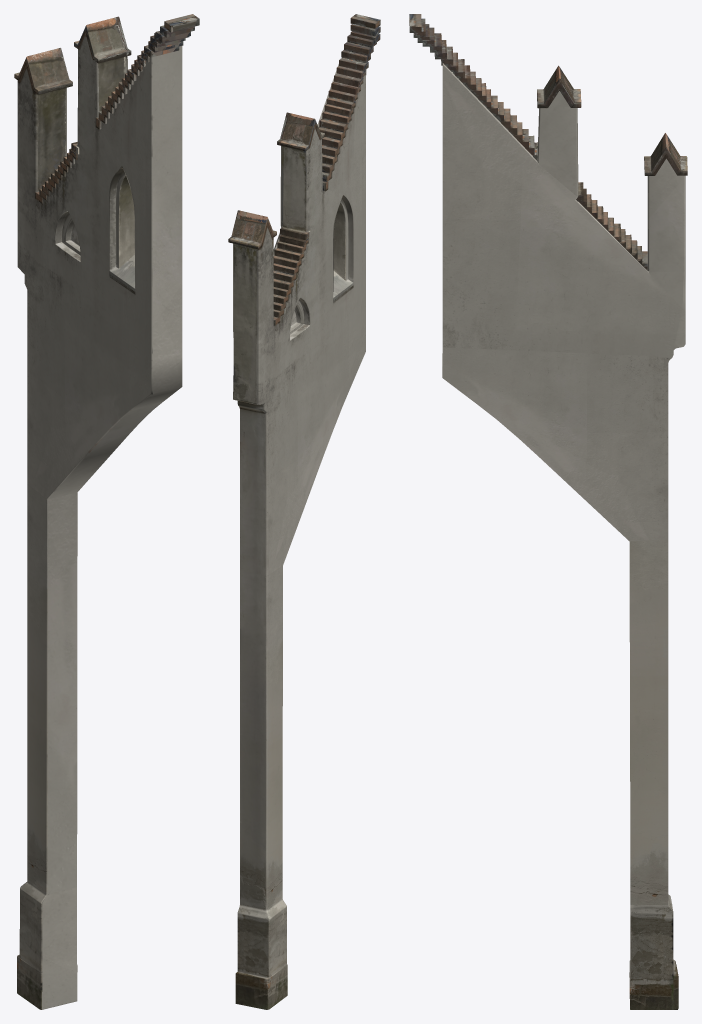
Rendered from sm_Church_01_09.fbx.
3 views of the same model, side by side, from view 1: azimuth 30°, elevation 25°; view 2: azimuth 150°, elevation 25°; view 3: azimuth 270°, elevation 25° (orthographic). The views are drawn at different scales.
Visible parts, largest first — view 1: sm_Church_01_09_LOD0; view 2: sm_Church_01_09_LOD0; view 3: sm_Church_01_09_LOD0.
Boxes of the visible parts, x1,y1,x2,y2 form: sm_Church_01_09_LOD0: (14,14,199,1009); sm_Church_01_09_LOD0: (228,14,380,1009); sm_Church_01_09_LOD0: (409,14,687,1009).
Size of the model in its own units: 46.43 by 296 by 1156.
